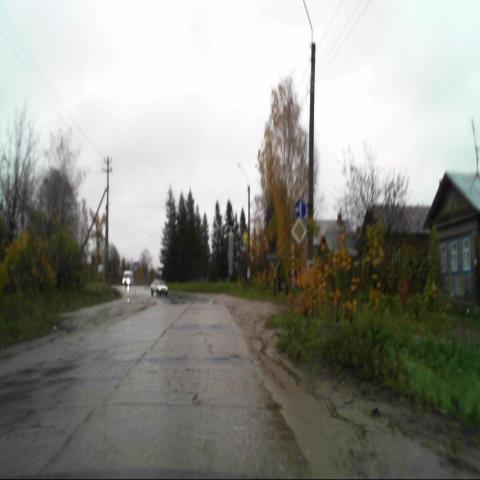4_1_5: (294, 199, 306, 220)
